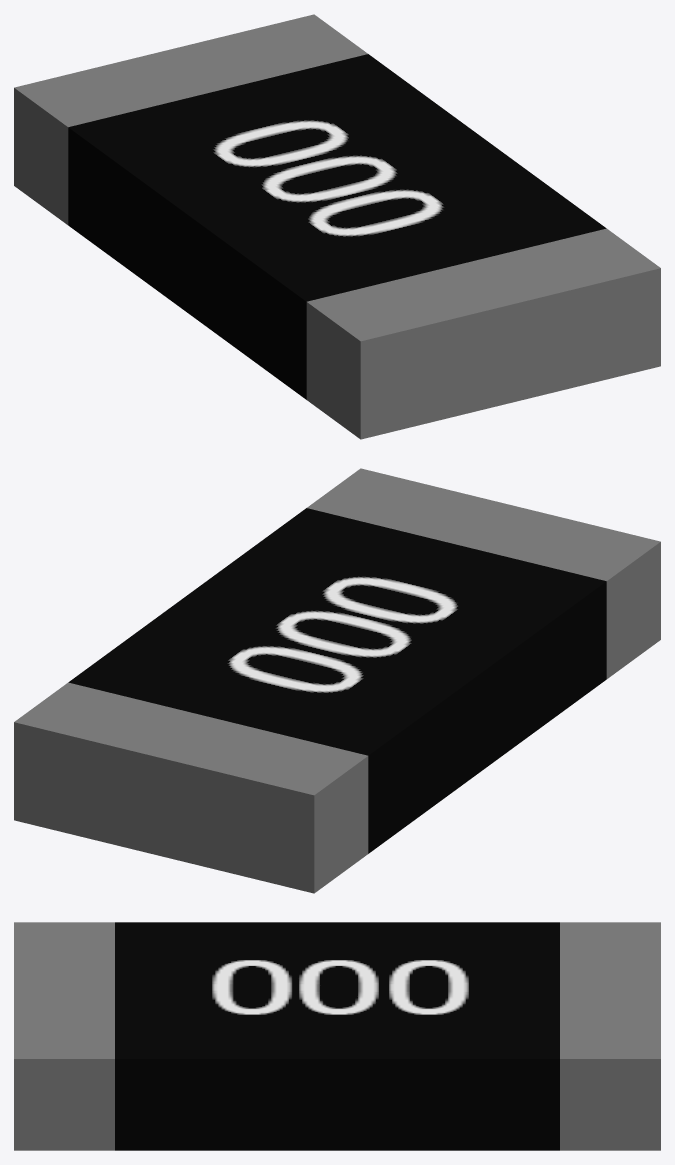
The model's file is Резисторы SMD.fbx.
3 renders of one model, top to bottom at view 1: azimuth 30°, elevation 25°; view 2: azimuth 150°, elevation 25°; view 3: azimuth 270°, elevation 25°, orthographic. The views are drawn at different scales.
Visible parts, largest first — view 1: 1206; view 2: 1206; view 3: 1206.
Boxes of the visible parts, x1=… form: 1206: x1=14, y1=14, x2=660, y2=439; 1206: x1=14, y1=468, x2=660, y2=893; 1206: x1=14, y1=922, x2=660, y2=1150.
Bounding box in the file's own units: 0.0016 × 0.0005 × 0.0032.
2 materials, 1 textured.
